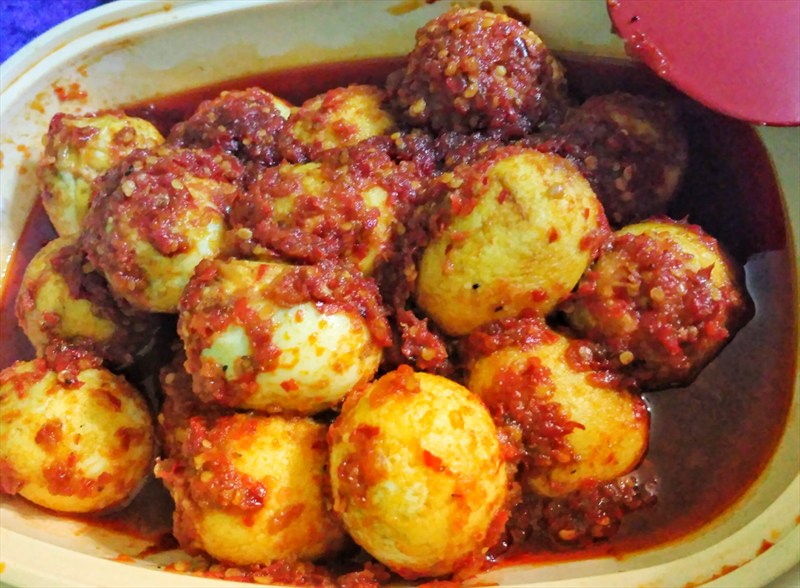Telur Balado: (57, 117, 658, 540)
